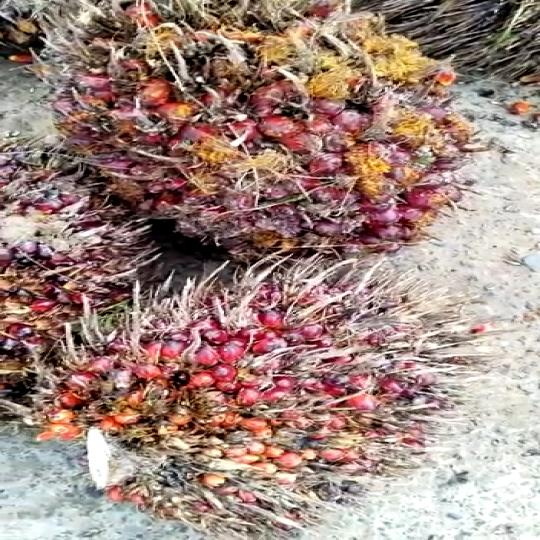masak: (0, 263, 479, 535), (35, 0, 515, 269)
